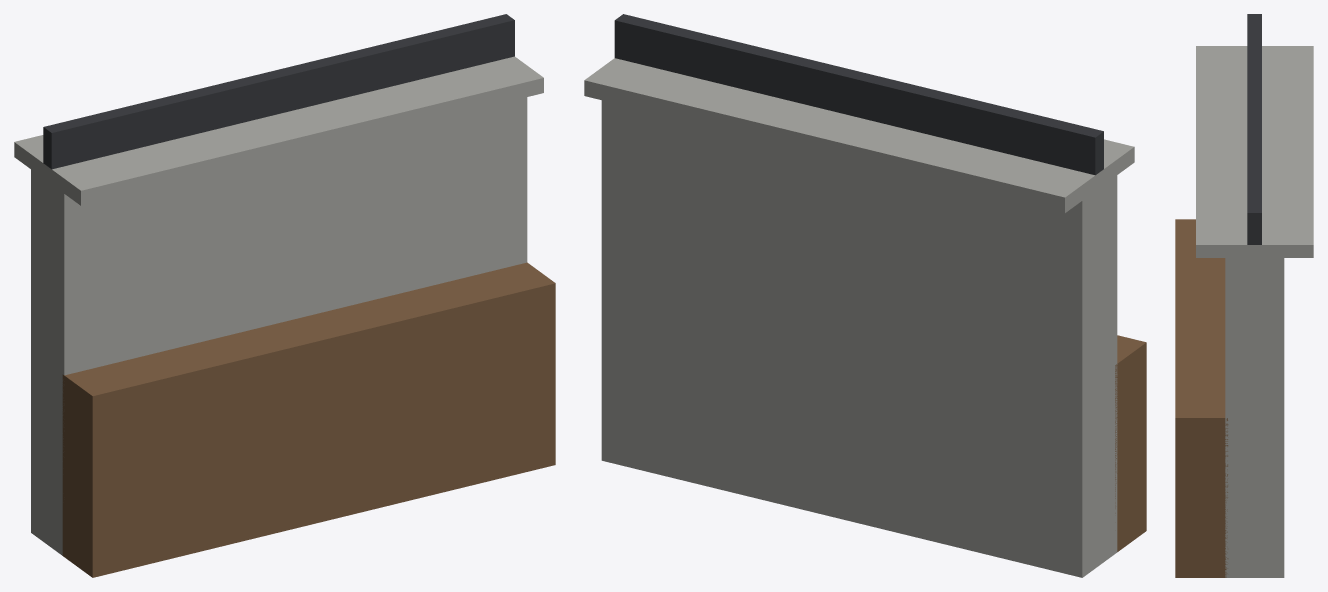
Rendered from bld_special_wall_a05_lod1.glb.
The picture shows the model from 3 angles, left to right: view 1: azimuth 30°, elevation 25°; view 2: azimuth 150°, elevation 25°; view 3: azimuth 270°, elevation 25°; orthographic projection. The views are drawn at different scales.
Parts seen in each view (by area): view 1: body; view 2: body; view 3: body.
Part boxes in pixels (x1,y1,x2,y2): body: (14,14,555,577); body: (584,14,1146,577); body: (1175,14,1313,577).
Size of the model in its own units: 8 by 6.85 by 2.35.
